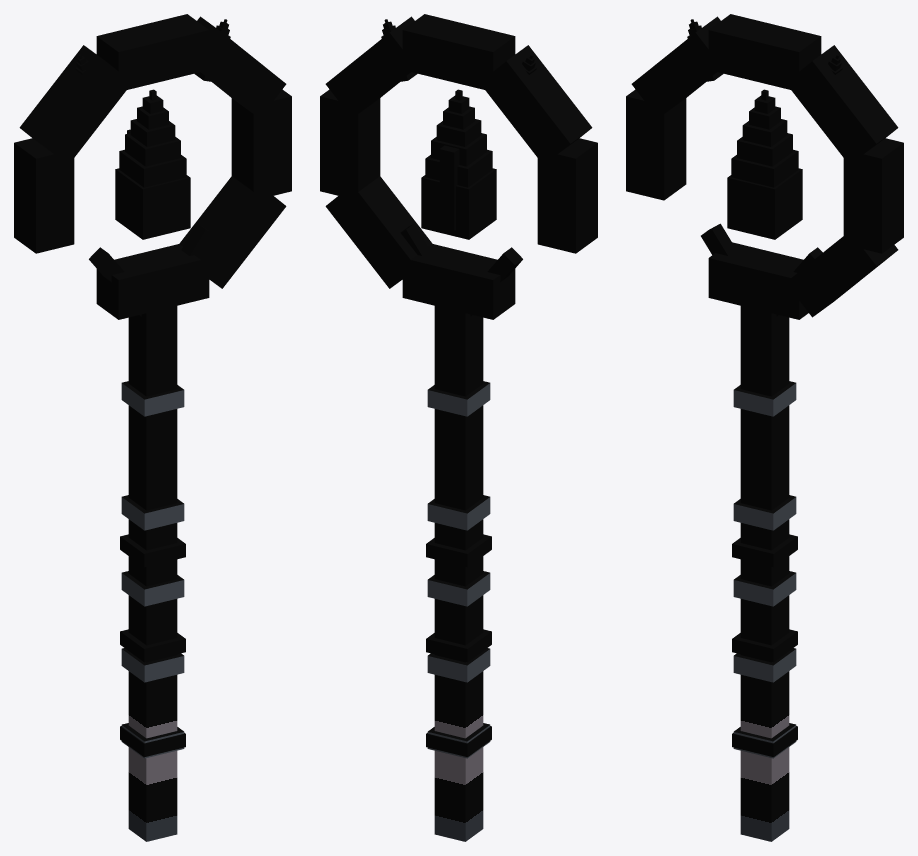
The model's file is resonance_staff.obj.
3 renders of one model, left to right at view 1: azimuth 30°, elevation 25°; view 2: azimuth 150°, elevation 25°; view 3: azimuth 330°, elevation 25°, orthographic.
Size of the model in its own units: 0.2934 by 0.875 by 0.0577.
